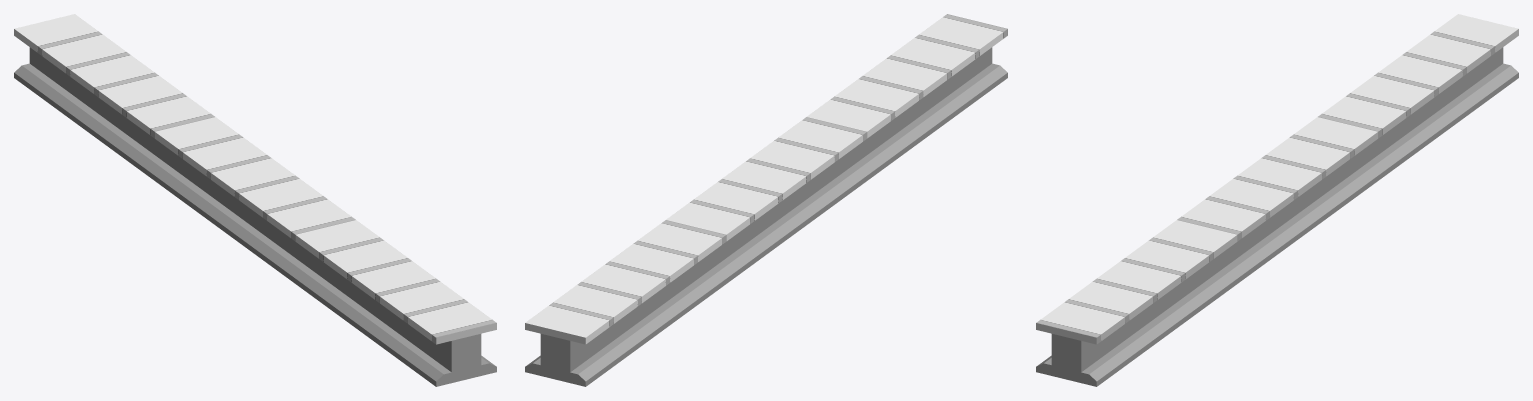
Rendered from conveyor_3.fbx.
The picture shows the model from 3 angles, left to right: view 1: azimuth 30°, elevation 25°; view 2: azimuth 150°, elevation 25°; view 3: azimuth 330°, elevation 25°; orthographic projection.
Parts seen in each view (by area): view 1: type_3; view 2: type_3; view 3: type_3.
Part boxes in pixels (x1,y1,x2,y2): type_3: (14,14,496,386); type_3: (525,14,1007,386); type_3: (1036,14,1518,386).
Bounding box in the file's own units: 49.32 × 38.23 × 594.
